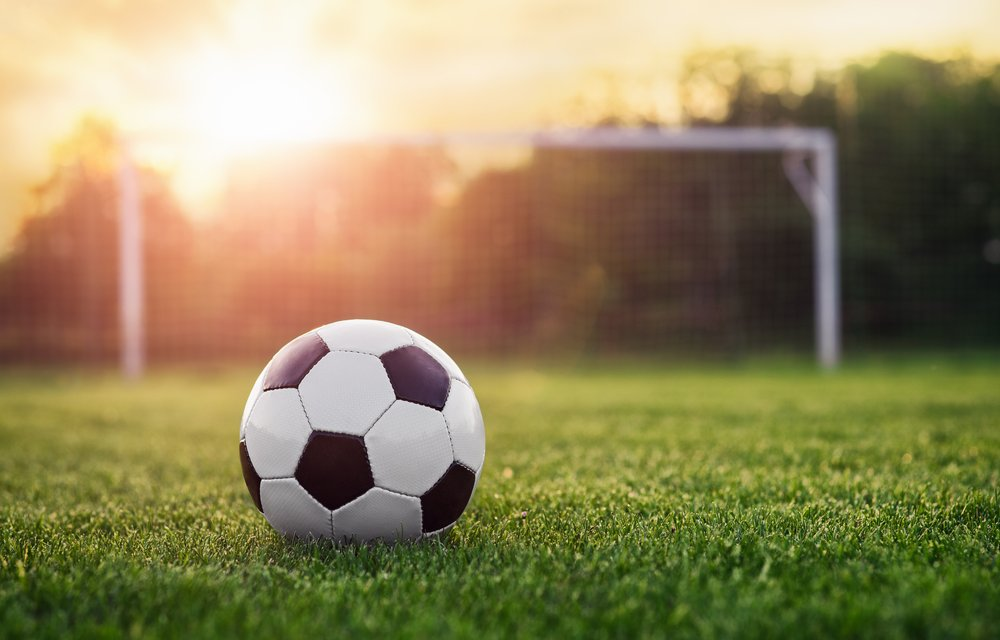football: (238, 316, 483, 543)
